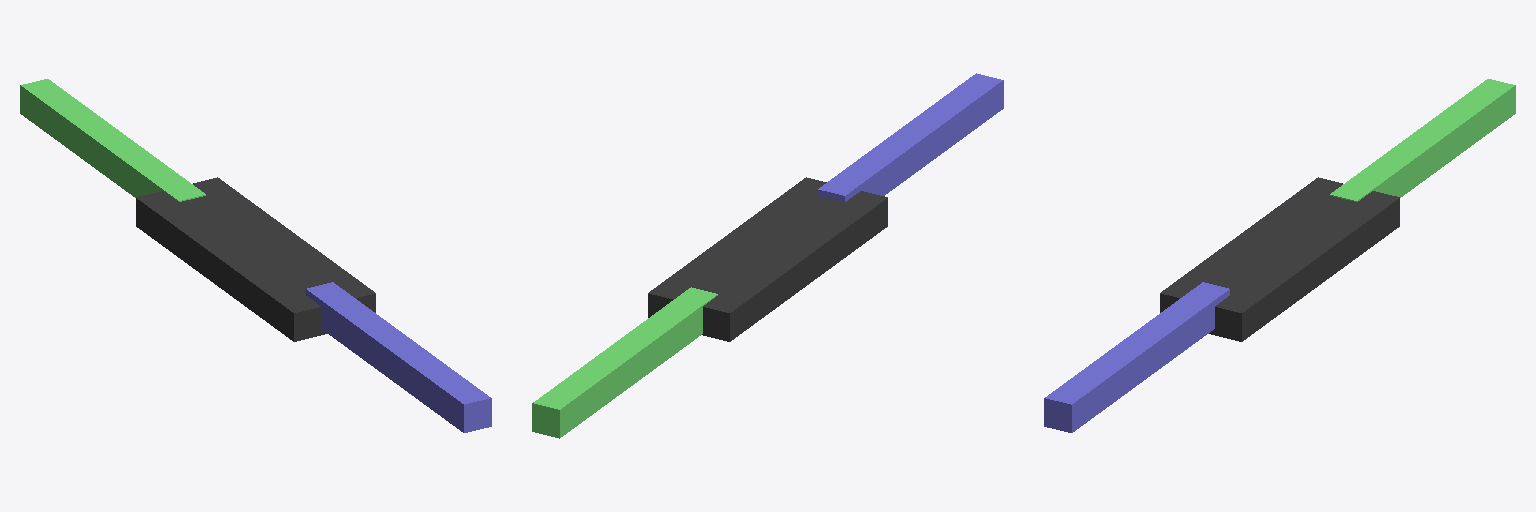
URDF robot description (SmarticleLowProfile):
<?xml version="1.0" encoding="UTF-8"?>
<robot name="SmarticleLowProfile">

	<!-- * * * Link Definitions * * * -->

 	<link name="base_link">
		<visual>
		    <origin xyz="0 0 0.0025" rpy="0 0 0"/>
			<geometry>
				<box size="0.015 0.05 0.005"/>
			</geometry>
			<material name="Gray">
	       		<color rgba="0.3 0.3 0.3 1.0"/>
	     	</material>
		</visual>	

		<contact>
		  <static_friction value="0.6"/>
		  <lateral_friction value="0.6"/>
		  <spinning_friction value="0.05"/>
		</contact>
		
		<inertial>
		  <!-- <origin xyz="0 0 0" rpy="0 0 0" / -->
		<origin xyz="0 0 0.0025" rpy="0 0 0"/>
		  <mass value="10e-3"/>
		  <inertia ixx="1" ixy="0" ixz="0" iyy="1" iyz="0" izz="1e-4"/>
		</inertial>

		<collision>
		    <origin xyz="0 0 0.0025" rpy="0 0 0"/>
			<geometry>
				<box size="0.015 0.05 0.005"/>
			</geometry>
		</collision>
	</link>
	
 	<link name="arm1">
		<visual>
		    <origin xyz="0 0.0225 0.0026" rpy="0 0 0"/>
			<geometry>
				<box size="0.005 0.05 0.005"/>
			</geometry>
			<material name="Green1">
	       		<color rgba="0.5 0.9 0.5 1.0"/>
	     	</material>
		</visual>	

		<contact>
		  <static_friction value="0.6"/>
		  <lateral_friction value="0.6"/>
		  <spinning_friction value="0.05"/>
		</contact>
		
		<inertial>
		    <origin xyz="0 0.0225 0.0026" rpy="0 0 0"/>
		  <mass value="10.0"/>
		  <inertia ixx="1" ixy="0" ixz="0" iyy="1" iyz="0" izz="1"/>
		</inertial>

		<collision>
		    <origin xyz="0 0.0225 0.0026" rpy="0 0 0"/>
			<geometry>
				<box size="0.005 0.05 0.005"/>
			</geometry>
		</collision>
	</link>
	
 	<link name="arm2">
		<visual>
		    <origin xyz="0 -0.0225 0.0026" rpy="0 0 0"/>
			<geometry>
				<box size="0.005 0.05 0.005"/>
			</geometry>
			<material name="Blue1">
	       		<color rgba="0.5 0.5 0.9 1.0"/>
	     	</material>
		</visual>	

		<contact>
		  <static_friction value="0.6"/>
		  <lateral_friction value="0.6"/>
		  <spinning_friction value="0.05"/>
		</contact>
		
		<inertial>
		    <origin xyz="0 -0.0225 0.0026" rpy="0 0 0"/>
		  <mass value="10.0"/>
		  <inertia ixx="1" ixy="0" ixz="0" iyy="1" iyz="0" izz="1"/>
		</inertial>

		<collision>
		    <origin xyz="0 -0.0225 0.0026" rpy="0 0 0"/>
			<geometry>
				<box size="0.005 0.05 0.005"/>
			</geometry>
		</collision>
	</link>
	
	<!-- * * * Joint Definitions * * * -->

	<joint name="j_1" type="revolute" damping="0.1">
    	<parent link="base_link"/>
    	<child link="arm1"/>
    	<origin xyz="0 0.0225 0.0001" rpy="0 0 0"/>
    	<axis xyz="0 0 1"/>
    	<limit lower="-3.1416" upper="3.1416" effort="10" velocity="10"/>
  	</joint>

	<joint name="j_2" type="revolute" damping="0.1">
    	<parent link="base_link"/>
    	<child link="arm2"/>
    	<origin xyz="0 -0.0225 0.001" rpy="0 0 0"/>
    	<axis xyz="0 0 1"/>
    	<limit lower="-3.1416" upper="3.1416" effort="10" velocity="10"/>
  	</joint>

</robot>

--- Render facts (derived) ---
3 views of the same robot in one strip: view 1: azimuth 30°, elevation 25°; view 2: azimuth 150°, elevation 25°; view 3: azimuth 330°, elevation 25° (orthographic).
Robot: SmarticleLowProfile — 3 links, 2 joints (2 revolute); root link base_link; default pose: every joint at zero.
Links seen in each view (by area): view 1: base_link, arm2, arm1; view 2: base_link, arm1, arm2; view 3: base_link, arm2, arm1.
Link boxes in pixels (left/top/right/bottom): base_link: left=136, top=177, right=375, bottom=341; arm2: left=306, top=282, right=491, bottom=432; arm1: left=20, top=79, right=205, bottom=201; base_link: left=648, top=177, right=887, bottom=341; arm1: left=532, top=287, right=717, bottom=438; arm2: left=818, top=73, right=1003, bottom=201; base_link: left=1160, top=177, right=1399, bottom=341; arm2: left=1044, top=282, right=1229, bottom=432; arm1: left=1330, top=79, right=1515, bottom=201.
Size in the robot's own frame: 0.015 by 0.14 by 0.0061 metres.
Geometry: primitives only (box / cylinder / sphere), no mesh files.